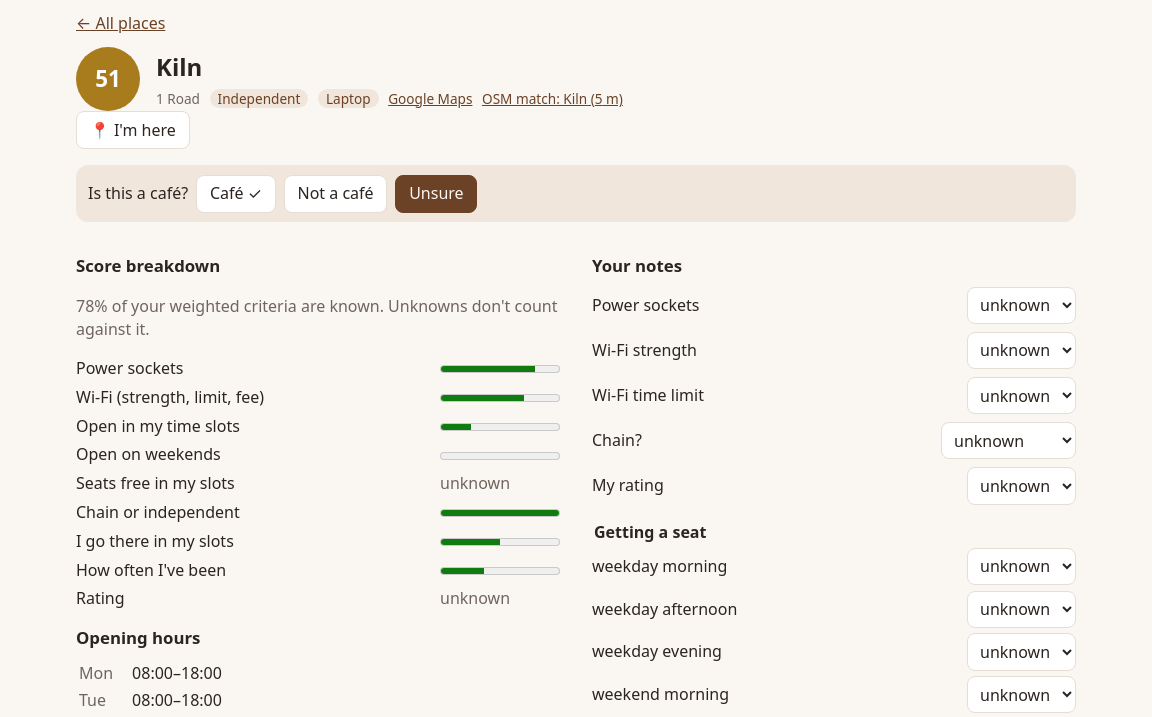
Test: PlaceDetail › records the café review and manual attributes
Later steps or results of the test are not shown.
Click the button "Not a café": point(336, 194) [284,175,387,213]
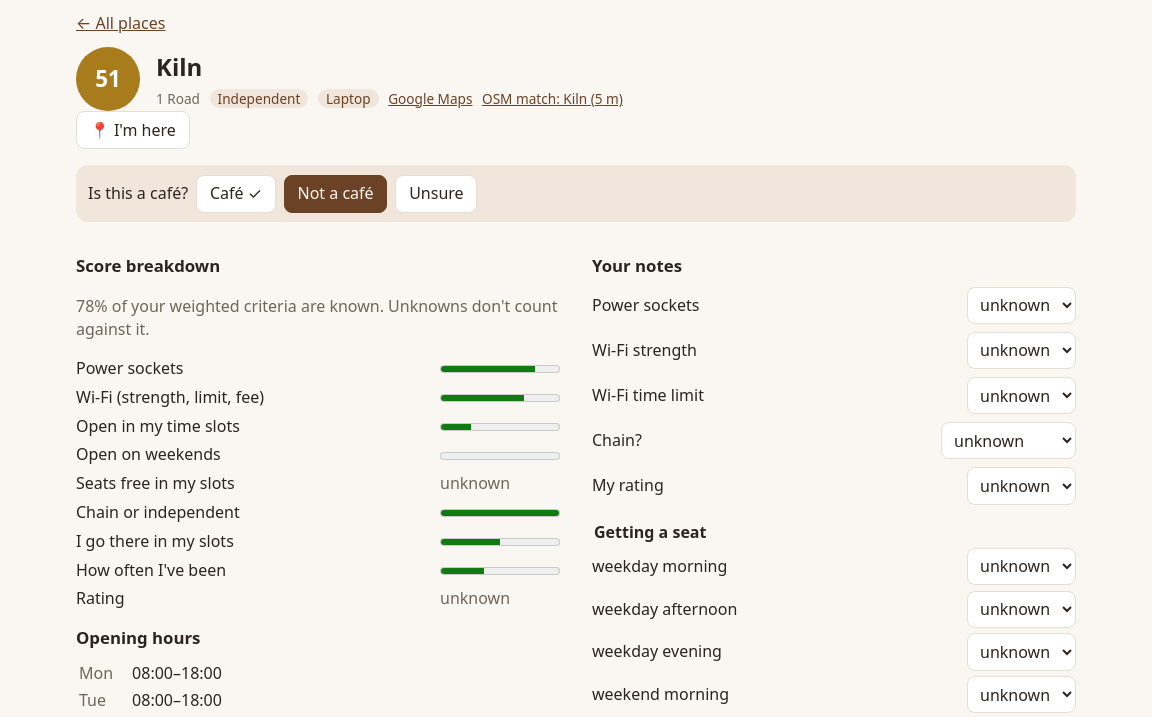
Expected: the button "Not a café" is pressed, [284,175,387,213]
